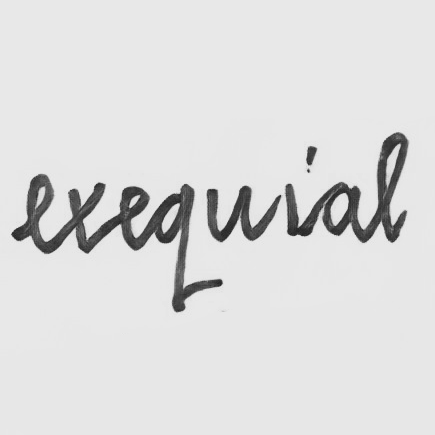a: (318, 177, 365, 242)
e: (19, 170, 59, 256), (115, 185, 151, 251)
i: (275, 179, 306, 241)
l: (372, 129, 412, 245)
q: (152, 182, 201, 313)
u: (204, 183, 258, 244)
x: (62, 181, 110, 254)
